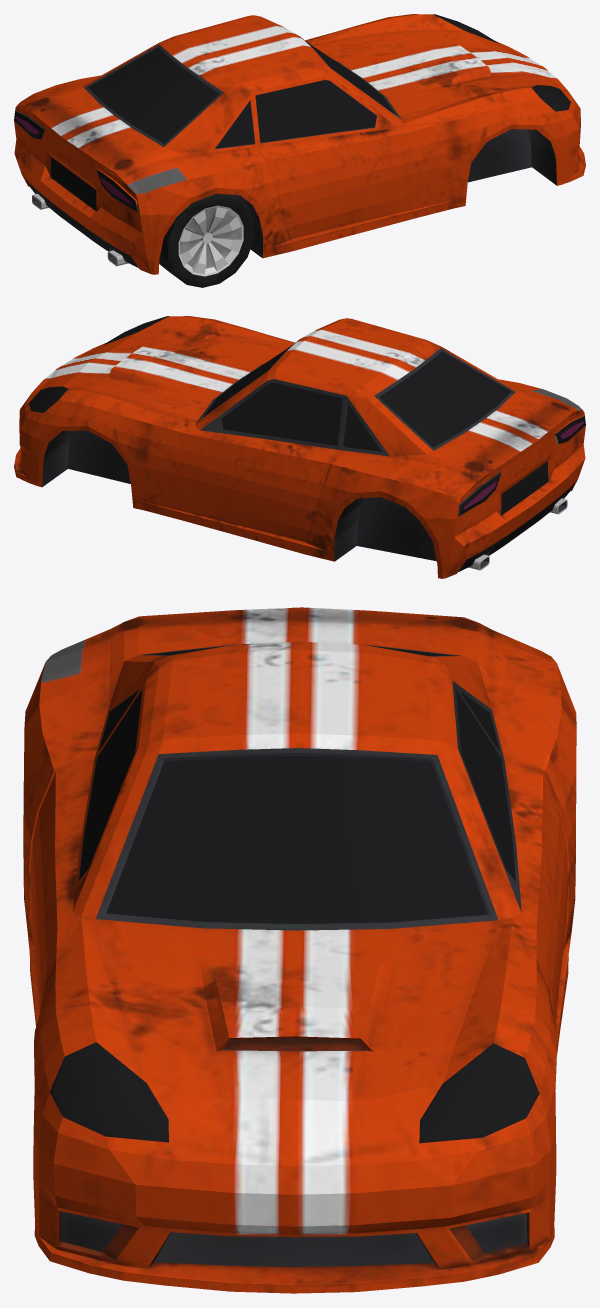
Rendered from car_1.fbx.
The picture shows the model from 3 angles, top to bottom: view 1: azimuth 30°, elevation 25°; view 2: azimuth 150°, elevation 25°; view 3: azimuth 270°, elevation 25°; orthographic projection. The views are drawn at different scales.
Parts seen in each view (by area): view 1: Body.001, WheelRR.007; view 2: Body.001; view 3: Body.001.
Boxes of the visible parts, box(x1,y1,x2,y2) form: Body.001: box(14, 14, 585, 274); WheelRR.007: box(159, 193, 253, 287); Body.001: box(14, 316, 585, 578); Body.001: box(23, 607, 576, 1293).
Bounding box in the file's own units: 51.14 × 16.63 × 24.96.
